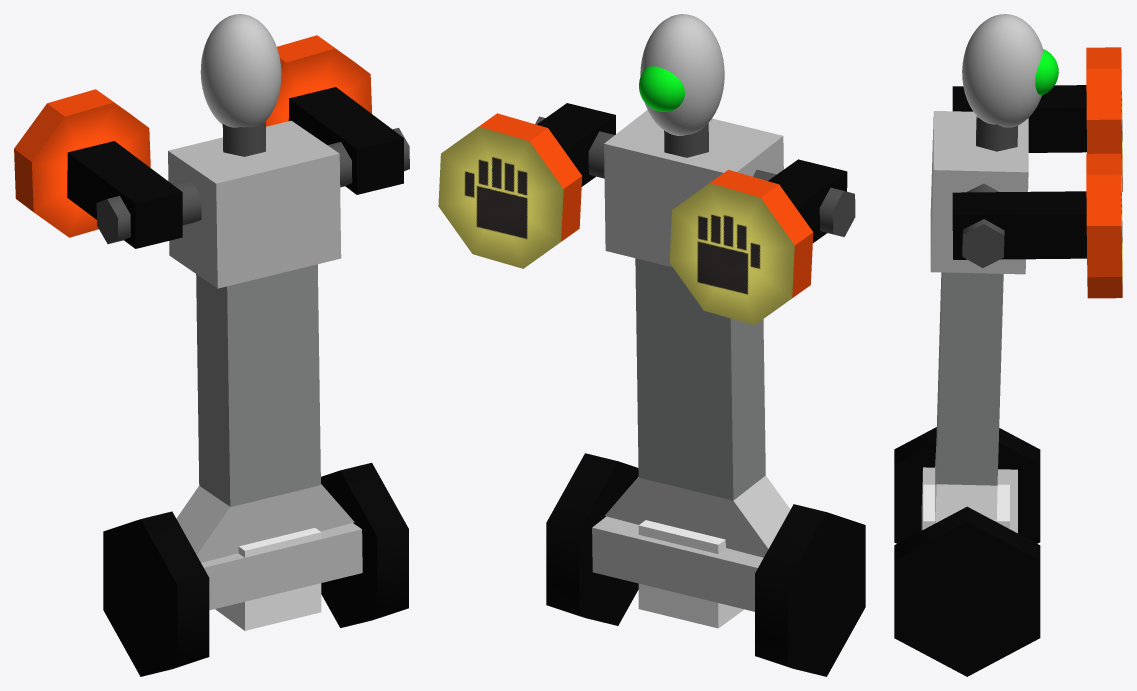
The model's file is SteathBot.fbx.
3 renders of one model, left to right at view 1: azimuth 30°, elevation 25°; view 2: azimuth 150°, elevation 25°; view 3: azimuth 270°, elevation 25°, orthographic. The views are drawn at different scales.
Visible parts, largest first — view 1: Center, Body, LeftWheel, LeftFist, RightWheel, BaseTop, LeftArm, Head, Base, RightArm, RightFist, TiltRoot (+2 smaller); view 2: Center, LeftFist, RightFist, LeftWheel, Body, RightWheel, Base, BaseTop, Head, TiltRoot, LeftArm, RightArm (+3 smaller); view 3: RightWheel, Center, Body, RightArm, Head, LeftWheel, RightFist, LeftArm, LeftFist, BaseTop, ArmBase, TiltRoot (+3 smaller).
Boxes of the visible parts, x1,y1,x2,y2 form: Center: (196,264,320,506); Body: (168,120,341,288); LeftWheel: (103,511,209,676); LeftFist: (14,89,150,237); RightWheel: (321,462,408,627); BaseTop: (176,484,354,562); LeftArm: (67,141,182,248); Head: (200,14,281,127); Base: (201,523,362,610); RightArm: (288,87,403,194); RightFist: (265,35,371,126); TiltRoot: (215,528,321,630); Center: (635,258,765,500); LeftFist: (669,169,813,325); RightFist: (438,113,582,268); LeftWheel: (755,504,865,676); Body: (604,110,783,267); RightWheel: (546,453,638,625); Base: (592,516,763,611); BaseTop: (605,475,790,557); Head: (640,14,724,135); TiltRoot: (638,520,744,628); LeftArm: (768,159,847,242); RightArm: (537,103,615,186); RightWheel: (894,506,1040,676); Center: (936,272,1003,485); Body: (930,111,1028,274); RightArm: (952,191,1086,259); Head: (962,14,1043,127); LeftWheel: (894,427,1040,543); RightFist: (1086,153,1122,298); LeftArm: (952,85,1086,152); LeftFist: (1086,47,1122,191); BaseTop: (935,446,997,523); ArmBase: (962,183,1004,267); TiltRoot: (923,484,1009,528).
Bounding box in the file's own units: 112 × 195 × 66.43.
